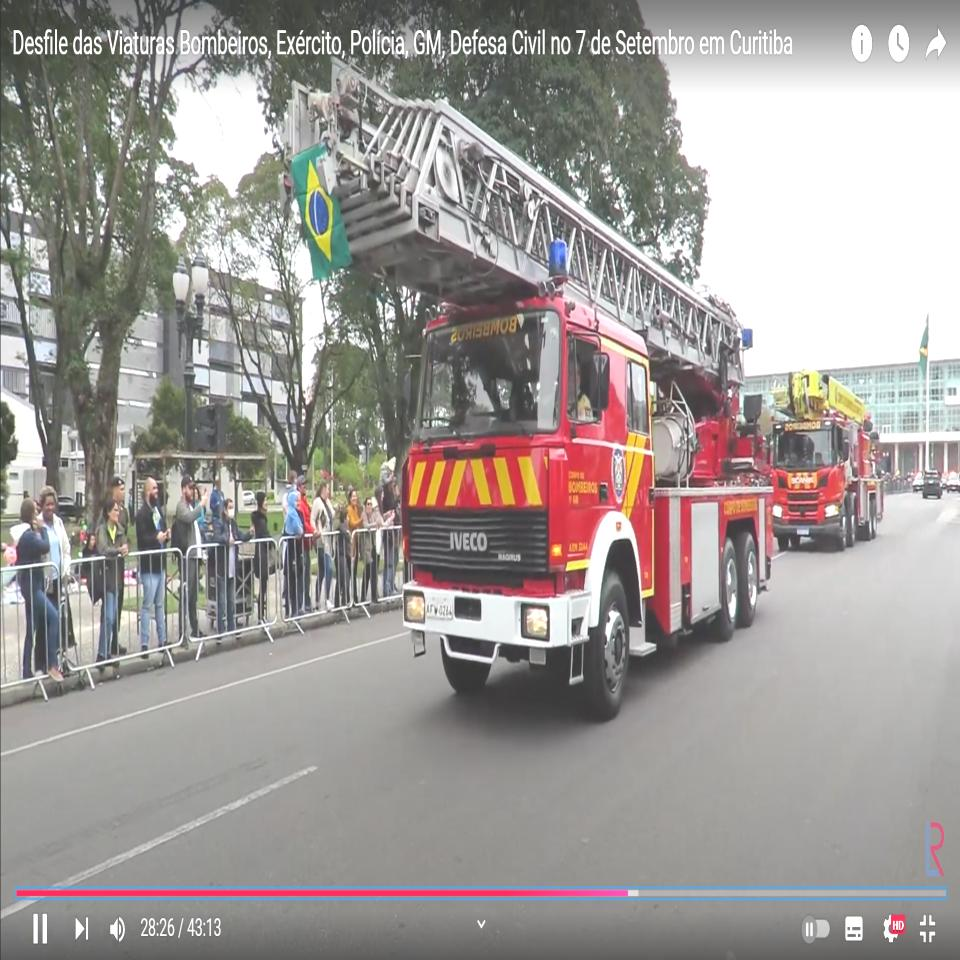bombeiro: (284, 61, 777, 719), (770, 367, 886, 549)
